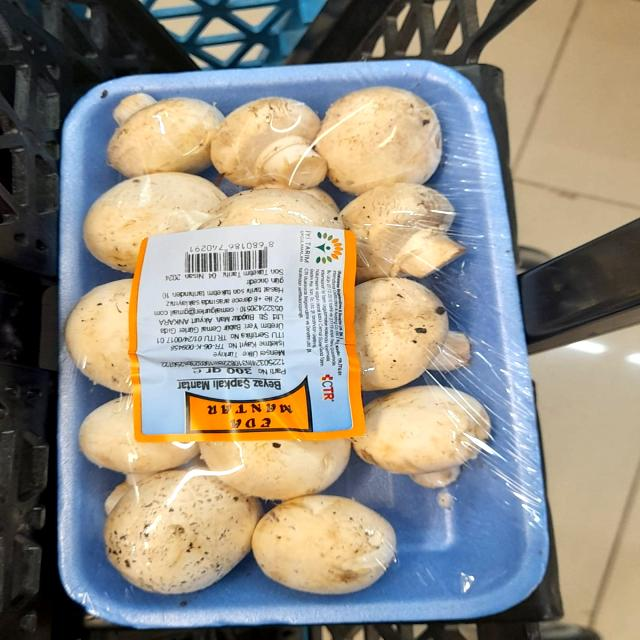mushroom: (81, 461, 255, 593), (250, 486, 426, 596), (352, 376, 495, 485), (311, 81, 452, 187), (336, 176, 479, 278), (209, 79, 327, 188), (103, 83, 225, 178)
